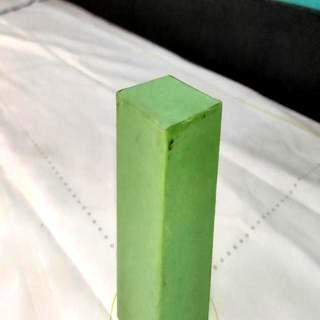greenbox: (117, 75, 222, 320)
